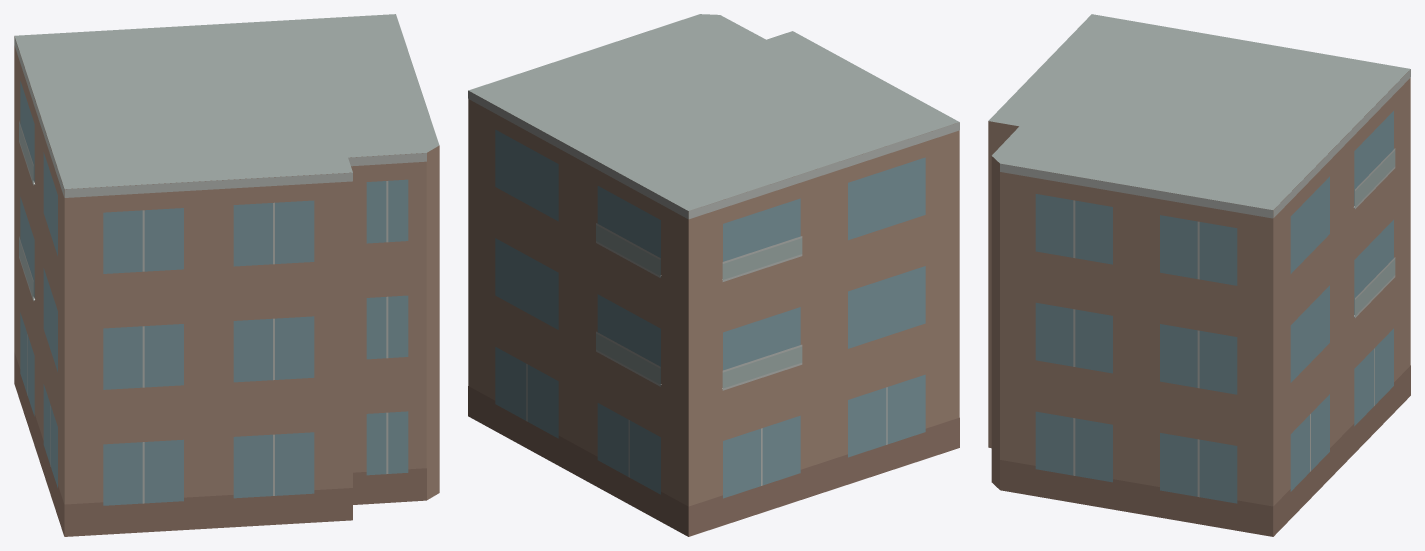
The model's file is survey-upis-32658503.glb.
The picture shows the model from 3 angles, left to right: view 1: azimuth 30°, elevation 25°; view 2: azimuth 150°, elevation 25°; view 3: azimuth 270°, elevation 25°; orthographic projection. The views are drawn at different scales.
Visible parts, largest first — view 1: survey-upis-32658503.tmp; view 2: survey-upis-32658503.tmp; view 3: survey-upis-32658503.tmp.
Boxes of the visible parts, <box> form: survey-upis-32658503.tmp: <box>14,14,439,536</box>; survey-upis-32658503.tmp: <box>468,14,959,536</box>; survey-upis-32658503.tmp: <box>988,14,1410,536</box>.
Size of the model in its own units: 12.31 by 9.55 by 11.21.
